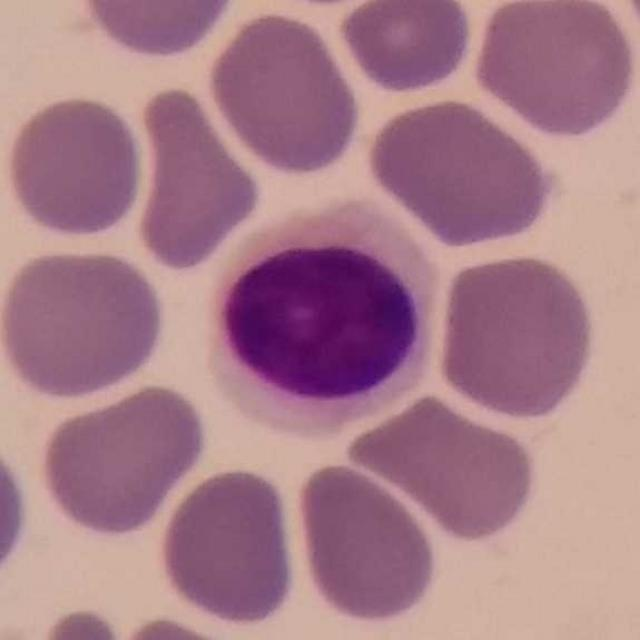Lymphocyte: (201, 196, 443, 452)
RBC: (362, 93, 562, 250), (344, 389, 543, 546), (432, 248, 602, 423), (204, 7, 365, 179), (37, 380, 210, 540), (0, 243, 168, 403), (129, 81, 265, 274), (290, 459, 443, 630), (154, 463, 302, 631), (468, 0, 640, 141), (1, 90, 148, 243), (336, 0, 475, 96), (73, 0, 241, 62), (0, 432, 35, 596), (94, 612, 274, 640), (7, 602, 139, 640), (616, 0, 640, 63)
